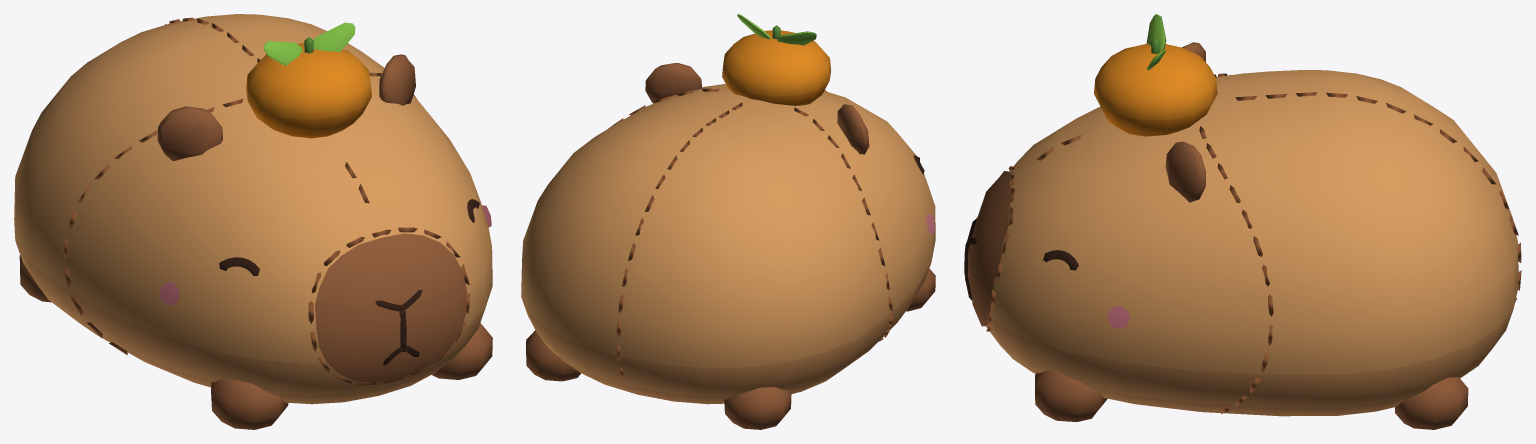
The model's file is Cosmetic_PlushCapybara.glb.
The picture shows the model from 3 angles, left to right: view 1: azimuth 30°, elevation 25°; view 2: azimuth 150°, elevation 25°; view 3: azimuth 270°, elevation 25°; orthographic projection. The views are drawn at different scales.
Parts seen in each view (by area): view 1: Cosmetic_PlushCapybara; view 2: Cosmetic_PlushCapybara; view 3: Cosmetic_PlushCapybara.
Boxes of the visible parts, box(x1,y1,x2,y2) form: Cosmetic_PlushCapybara: box(14, 14, 492, 429); Cosmetic_PlushCapybara: box(521, 14, 935, 429); Cosmetic_PlushCapybara: box(964, 14, 1521, 429).
Bounding box in the file's own units: 0.4287 × 0.3693 × 0.5531.
